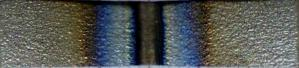soldas: (71, 1, 208, 67)
